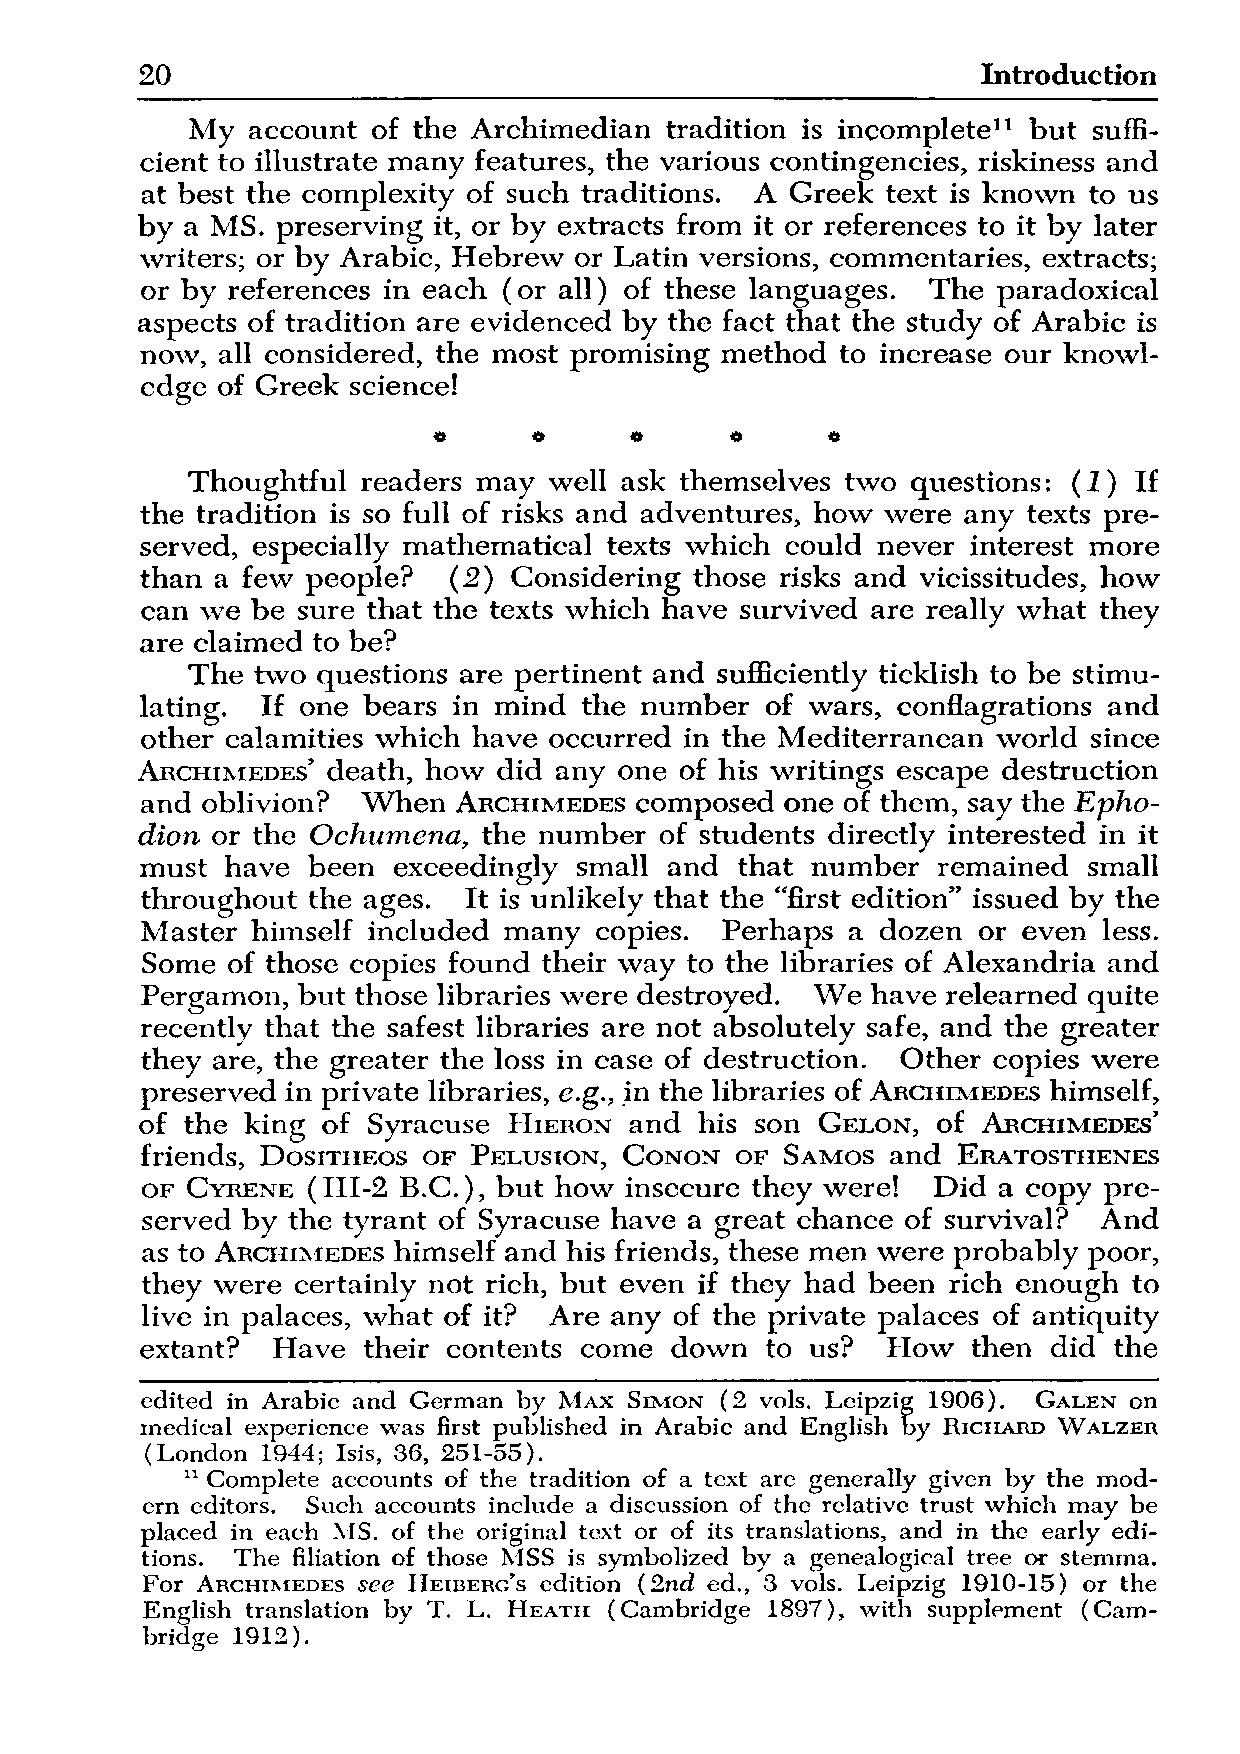content: (136, 114, 1168, 1653)
content_chapter: (968, 56, 1164, 89)
content_pagenumber: (132, 60, 172, 85)
